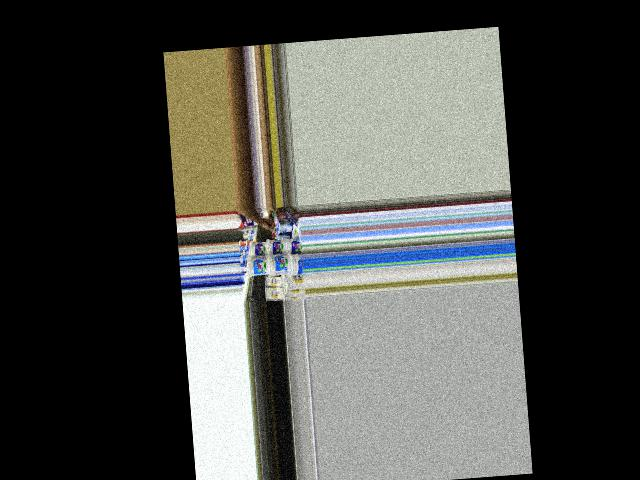cotage: (266, 239, 287, 257)
